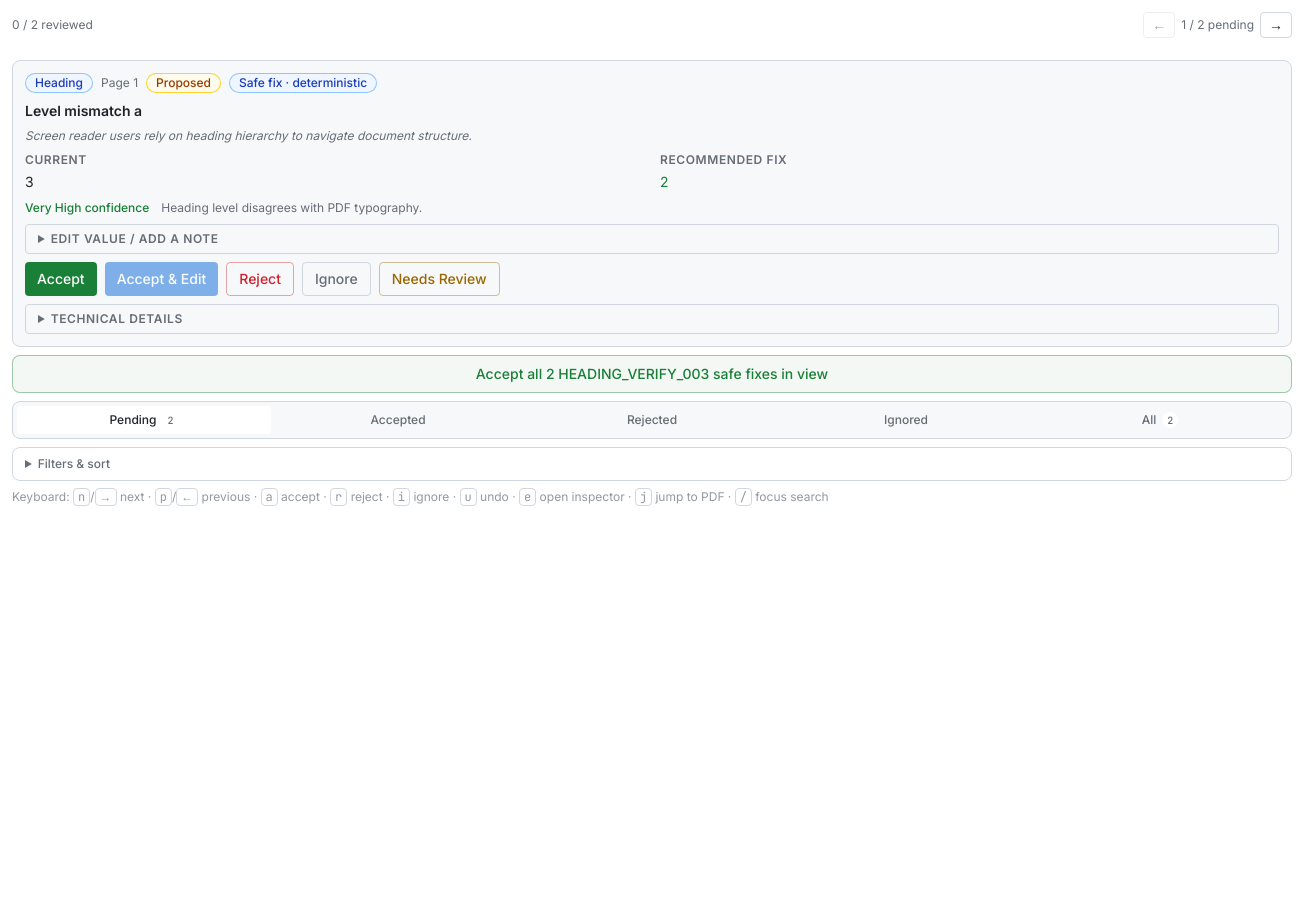
ReviewerWorkspace batch review › accepts one cause as a single request
Click the button "Accept all 2 HEADING_VERIFY_003 safe fixes in view" at (652, 374), box [12,355,1292,393]
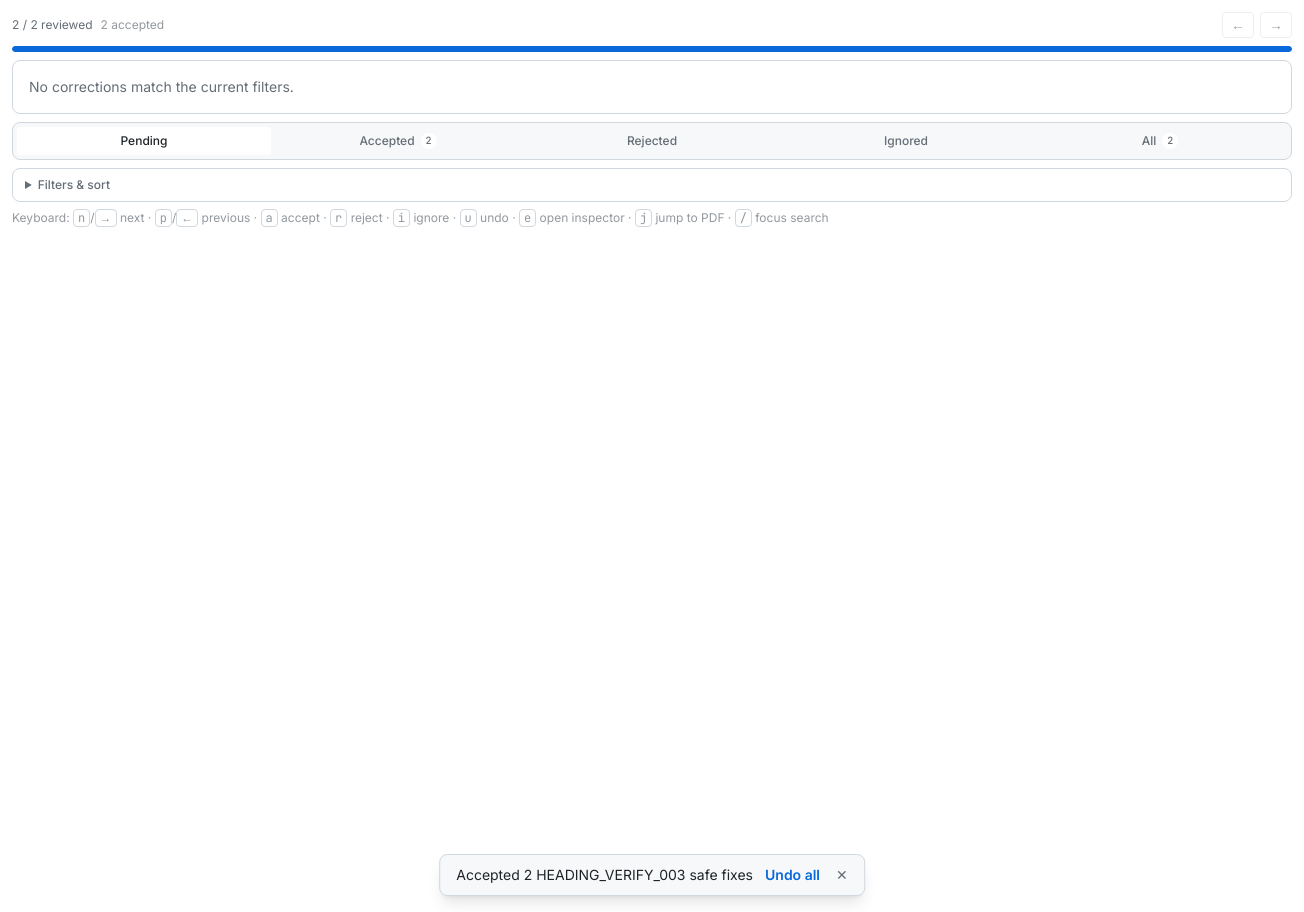
Now the text "Accepted 2 HEADING_VERIFY_003 safe fixes" is shown, box [456,865,753,885]
